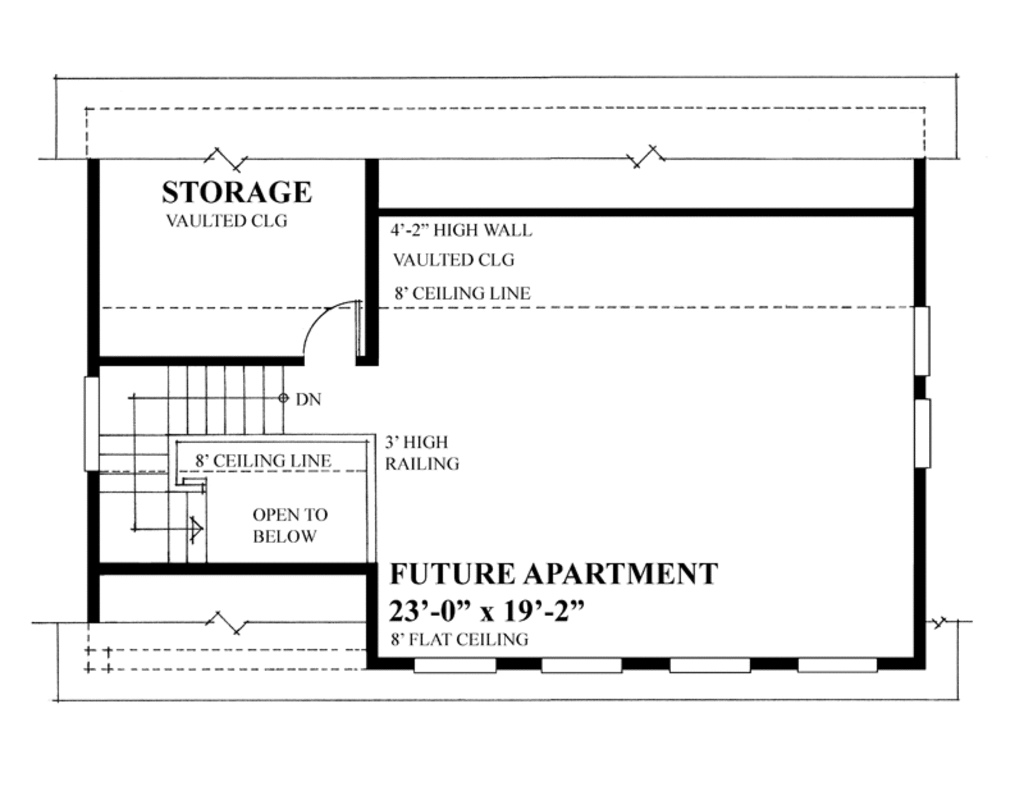door: (301, 290, 372, 371)
stairs: (98, 352, 304, 560)
window: (71, 371, 105, 477), (412, 647, 504, 679), (536, 653, 635, 679), (793, 654, 887, 680), (906, 306, 929, 388), (670, 655, 757, 674), (911, 400, 934, 462)
